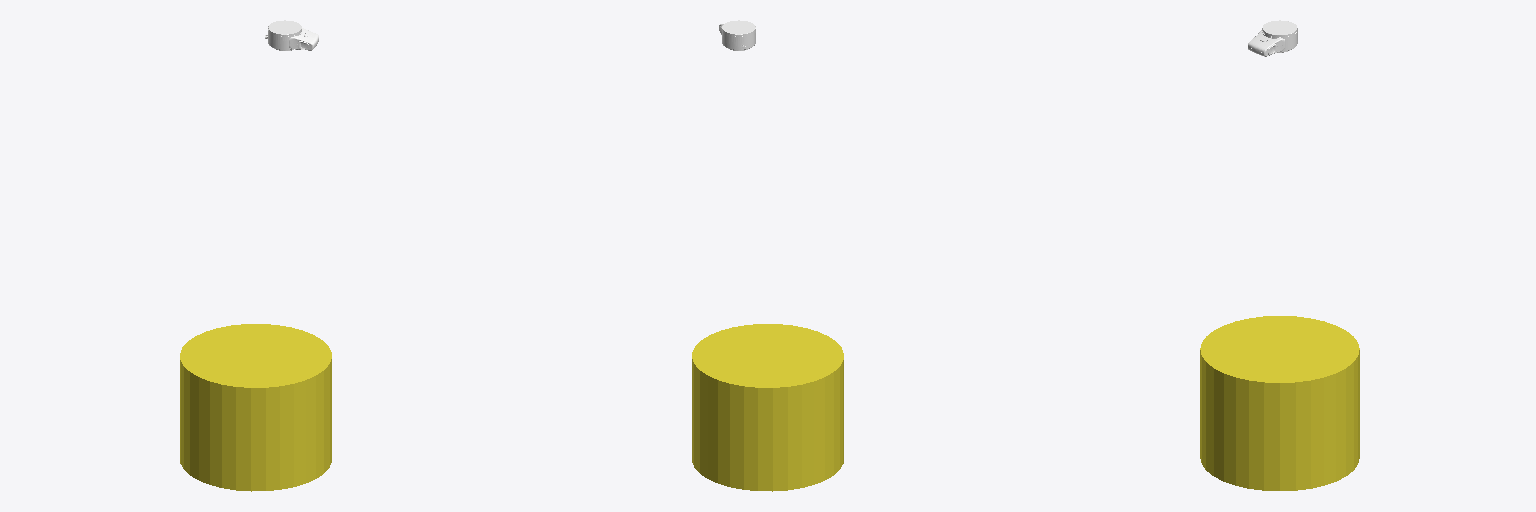
URDF robot description (omniPanda):
<?xml version="1.0"?>
<!-- =================================================================================== -->
<!-- |    This document was autogenerated by xacro from panda_arm.urdf.xacro           | -->
<!-- |    EDITING THIS FILE BY HAND IS NOT RECOMMENDED                                 | -->
<!-- =================================================================================== -->
<robot name="omniPanda">
  <link name="world"/>
  <link name="base_link_x">
    <inertial>
      <mass value="1.0"/>
      <origin rpy="0 0 0" xyz="0 0 0"/>
      <inertia ixx="1.0" ixy="0.0" ixz="0.0" iyy="1.0" iyz="0.0" izz="1.0"/>
    </inertial>
  </link>
  <link name="base_link_y">
    <inertial>
      <mass value="1.0"/>
      <origin rpy="0 0 0" xyz="0 0 0"/>
      <inertia ixx="1.0" ixy="0.0" ixz="0.0" iyy="1.0" iyz="0.0" izz="1.0"/>
    </inertial>
  </link>
  <link name="base_link">
    <inertial>
      <mass value="100.0"/>
      <origin rpy="0 0 0" xyz="0 0 0"/>
      <inertia ixx="1.0" ixy="0.0" ixz="0.0" iyy="1.0" iyz="0.0" izz="1.0"/>
    </inertial>
    <collision>
      <origin rpy="0.0 0 0" xyz="0 0 0"/>
      <geometry>
          <cylinder length="0.3" radius="0.2"/>
      </geometry>
    </collision>
    <visual>
      <origin rpy="0.0 0 0" xyz="0 0 0"/>
      <geometry>
          <cylinder length="0.3" radius="0.2"/>
      </geometry>
    </visual>
  </link>
  <joint name="omni_joint_x" type="prismatic">
    <safety_controller k_position="100.0" k_velocity="40.0" soft_lower_limit="-2.8973" soft_upper_limit="2.8973"/>
    <parent link="world"/>
    <child link="base_link_x"/>
    <origin rpy="0 0 0" xyz="0 0 0.15"/>
    <axis xyz="1 0 0"/>
    <limit effort="87" lower="-500" upper="500" velocity="2.1750"/>
  </joint>
  <joint name="omni_joint_y" type="prismatic">
    <safety_controller k_position="100.0" k_velocity="40.0" soft_lower_limit="-2.8973" soft_upper_limit="2.8973"/>
    <parent link="base_link_x"/>
    <child link="base_link_y"/>
    <origin rpy="0 0 0" xyz="0 0 0"/>
    <axis xyz="0 1 0"/>
    <limit effort="87" lower="-500" upper="500" velocity="2.1750"/>
  </joint>
  <joint name="omni_joint_theta" type="revolute">
    <safety_controller k_position="100.0" k_velocity="40.0" soft_lower_limit="-2.8973" soft_upper_limit="2.8973"/>
    <parent link="base_link_y"/>
    <child link="base_link"/>
    <origin rpy="0 0 0" xyz="0 0 0"/>
    <axis xyz="0 0 1"/>
    <limit effort="87" lower="-500" upper="500" velocity="2.1750"/>
  </joint>
  <link name="panda_link0">
    <inertial>
      <mass value="2.92"/>
      <origin rpy="0 0 0" xyz="-0.025566 -2.88e-05 0.057332"/>
      <inertia ixx="0.00782229414331" ixy="-1.56191622996e-05" ixz="-0.00126005738123" iyy="0.0109027971813" iyz="1.08233858202e-05" izz="0.0102355503949"/>
    </inertial>
    <visual>
      <origin rpy="0 0 0" xyz="0 0 0"/>
      <geometry>
        <mesh filename="meshes/visual/link0.dae"/>
      </geometry>
      <material name="">
        <color rgba="1 1 1 1"/>
      </material>
    </visual>
    <collision>
      <origin rpy="0 0 0" xyz="0 0 0"/>
      <geometry>
        <mesh filename="meshes/collision/link0.stl"/>
      </geometry>
    </collision>
  </link>
  <joint name="panda_joint_base" type="fixed">
    <parent link="base_link"/>
    <child link="panda_link0"/>
    <origin rpy="0 0 0" xyz="0 0 0.1"/>
  </joint>
  <link name="panda_link1">
    <inertial>
      <mass value="2.74"/>
      <origin rpy="0 0 0" xyz="0 -0.0324958 -0.0675818"/>
      <inertia ixx="0.0180416958283" ixy="0.0" ixz="0.0" iyy="0.0159136071891" iyz="0.0046758424612" izz="0.00620690827127"/>
    </inertial>
    <visual>
      <origin rpy="0 0 0" xyz="0 0 0"/>
      <geometry>
        <mesh filename="meshes/visual/link1.obj"/>
      </geometry>
      <material name="">
        <color rgba="1 1 1 1"/>
      </material>
    </visual>
    <collision>
      <origin rpy="0 0 0" xyz="0 0 0"/>
      <geometry>
        <mesh filename="meshes/collision/link1.stl"/>
      </geometry>
    </collision>
  </link>
  <joint name="panda_joint1" type="revolute">
    <safety_controller k_position="100.0" k_velocity="40.0" soft_lower_limit="-2.8973" soft_upper_limit="2.8973"/>
    <origin rpy="0 0 0" xyz="0 0 0.333"/>
    <parent link="panda_link0"/>
    <child link="panda_link1"/>
    <axis xyz="0 0 1"/>
    <limit effort="87" lower="-2.8973" upper="2.8973" velocity="2.1750"/>
  </joint>
  <link name="panda_link2">
    <inertial>
      <mass value="2.74"/>
      <origin rpy="0 0 0" xyz="0 -0.06861 0.0322285"/>
      <inertia ixx="0.0182856182281" ixy="0.0" ixz="0.0" iyy="0.00621358421175" iyz="-0.00472844221905" izz="0.0161514346309"/>
    </inertial>
    <visual>
      <origin rpy="0 0 0" xyz="0 0 0"/>
      <geometry>
        <mesh filename="meshes/visual/link2.obj"/>
      </geometry>
      <material name="">
        <color rgba="1 1 1 1"/>
      </material>
    </visual>
    <collision>
      <origin rpy="0 0 0" xyz="0 0 0"/>
      <geometry>
        <mesh filename="meshes/collision/link2.stl"/>
      </geometry>
    </collision>
  </link>
  <joint name="panda_joint2" type="revolute">
    <safety_controller k_position="100.0" k_velocity="40.0" soft_lower_limit="-1.7628" soft_upper_limit="1.7628"/>
    <origin rpy="-1.57079632679 0 0" xyz="0 0 0"/>
    <parent link="panda_link1"/>
    <child link="panda_link2"/>
    <axis xyz="0 0 1"/>
    <limit effort="87" lower="-1.7628" upper="1.7628" velocity="2.1750"/>
  </joint>
  <link name="panda_link3">
    <inertial>
      <mass value="2.38"/>
      <origin rpy="0 0 0" xyz="0.0469893 0.0316374 -0.031704"/>
      <inertia ixx="0.00771376630908" ixy="-0.00248490625138" ixz="-0.00332147581033" iyy="0.00989108008727" iyz="-0.00217796151484" izz="0.00811723558464"/>
    </inertial>
    <visual>
      <origin rpy="0 0 0" xyz="0 0 0"/>
      <geometry>
        <mesh filename="meshes/visual/link3.obj"/>
      </geometry>
      <material name="">
        <color rgba="1 1 1 1"/>
      </material>
    </visual>
    <collision>
      <origin rpy="0 0 0" xyz="0 0 0"/>
      <geometry>
        <mesh filename="meshes/collision/link3.stl"/>
      </geometry>
    </collision>
  </link>
  <joint name="panda_joint3" type="revolute">
    <safety_controller k_position="100.0" k_velocity="40.0" soft_lower_limit="-2.8973" soft_upper_limit="2.8973"/>
    <origin rpy="1.57079632679 0 0" xyz="0 -0.316 0"/>
    <parent link="panda_link2"/>
    <child link="panda_link3"/>
    <axis xyz="0 0 1"/>
    <limit effort="87" lower="-2.8973" upper="2.8973" velocity="2.1750"/>
  </joint>
  <link name="panda_link4">
    <inertial>
      <mass value="2.38"/>
      <origin rpy="0 0 0" xyz="-0.0360446 0.0336853 0.031882"/>
      <inertia ixx="0.00799663881132" ixy="0.00347095570217" ixz="-0.00241222942995" iyy="0.00825390705278" iyz="0.00235774044121" izz="0.0102515004345"/>
    </inertial>
    <visual>
      <origin rpy="0 0 0" xyz="0 0 0"/>
      <geometry>
        <mesh filename="meshes/visual/link4.obj"/>
      </geometry>
      <material name="">
        <color rgba="1 1 1 1"/>
      </material>
    </visual>
    <collision>
      <origin rpy="0 0 0" xyz="0 0 0"/>
      <geometry>
        <mesh filename="meshes/collision/link4.stl"/>
      </geometry>
    </collision>
  </link>
  <joint name="panda_joint4" type="revolute">
    <safety_controller k_position="100.0" k_velocity="40.0" soft_lower_limit="-3.0718" soft_upper_limit="0.0698"/>
    <!-- soft_upper_limitr should be -0.0698, but that brakes simulation when initial position for this joint is 0.0 -->
    <origin rpy="1.57079632679 0 0" xyz="0.0825 0 0"/>
    <parent link="panda_link3"/>
    <child link="panda_link4"/>
    <axis xyz="0 0 1"/>
    <limit effort="87" lower="-3.0718" upper="0.0698" velocity="2.1750"/>
    <!-- upper should be -0.0698, but that brakes simulation when initial position for this joint is 0.0 -->
  </joint>
  <link name="panda_link5">
    <inertial>
      <mass value="2.74"/>
      <origin rpy="0 0 0" xyz="0 0.0610427 -0.104176"/>
      <inertia ixx="0.030371374513" ixy="6.50283587108e-07" ixz="-1.05129179916e-05" iyy="0.0288752887402" iyz="-0.00775653445787" izz="0.00444134056164"/>
    </inertial>
    <visual>
      <origin rpy="0 0 0" xyz="0 0 0"/>
      <geometry>
        <mesh filename="meshes/visual/link5.obj"/>
      </geometry>
      <material name="">
        <color rgba="1 1 1 1"/>
      </material>
    </visual>
    <collision>
      <origin rpy="0 0 0" xyz="0 0 0"/>
      <geometry>
        <mesh filename="meshes/collision/link5.stl"/>
      </geometry>
    </collision>
  </link>
  <joint name="panda_joint5" type="revolute">
    <safety_controller k_position="100.0" k_velocity="40.0" soft_lower_limit="-2.8973" soft_upper_limit="2.8973"/>
    <origin rpy="-1.57079632679 0 0" xyz="-0.0825 0.384 0"/>
    <parent link="panda_link4"/>
    <child link="panda_link5"/>
    <axis xyz="0 0 1"/>
    <limit effort="12" lower="-2.8973" upper="2.8973" velocity="2.6100"/>
  </joint>
  <link name="panda_link6">
    <inertial>
      <mass value="1.55"/>
      <origin rpy="0 0 0" xyz="0.0510509 0.009108 0.0106343"/>
      <inertia ixx="0.00303336450376" ixy="-0.000437276865508" ixz="0.000629257294877" iyy="0.00404479911567" iyz="0.000130472021025" izz="0.00558234286039"/>
    </inertial>
    <visual>
      <origin rpy="0 0 0" xyz="0 0 0"/>
      <geometry>
        <mesh filename="meshes/visual/link6.obj"/>
      </geometry>
      <material name="">
        <color rgba="1 1 1 1"/>
      </material>
    </visual>
    <collision>
      <origin rpy="0 0 0" xyz="0 0 0"/>
      <geometry>
        <mesh filename="meshes/collision/link6.stl"/>
      </geometry>
    </collision>
  </link>
  <joint name="panda_joint6" type="revolute">
    <safety_controller k_position="100.0" k_velocity="40.0" soft_lower_limit="-0.0175" soft_upper_limit="3.7525"/>
    <origin rpy="1.57079632679 0 0" xyz="0 0 0"/>
    <parent link="panda_link5"/>
    <child link="panda_link6"/>
    <axis xyz="0 0 1"/>
    <limit effort="12" lower="-0.0175" upper="3.7525" velocity="2.6100"/>
  </joint>
  <link name="panda_link7">
    <inertial>
      <mass value="0.54"/>
      <origin rpy="0 0 0" xyz="0.0109695 0.0107965 0.0650411"/>
      <inertia ixx="0.000888868887021" ixy="-0.00012239074652" ixz="3.98699829666e-05" iyy="0.000888001373233" iyz="-9.33825115206e-05" izz="0.0007176834609"/>
    </inertial>
    <visual>
      <origin rpy="0 0 0" xyz="0 0 0"/>
      <geometry>
        <mesh filename="meshes/visual/link7.dae"/>
      </geometry>
      <material name="">
        <color rgba="1 1 1 1"/>
      </material>
    </visual>
    <collision>
      <origin rpy="0 0 0" xyz="0 0 0"/>
      <geometry>
        <mesh filename="meshes/collision/link7.stl"/>
      </geometry>
    </collision>
  </link>
  <joint name="panda_joint7" type="revolute">
    <safety_controller k_position="100.0" k_velocity="40.0" soft_lower_limit="-2.8973" soft_upper_limit="2.8973"/>
    <origin rpy="1.57079632679 0 0" xyz="0.088 0 0"/>
    <parent link="panda_link6"/>
    <child link="panda_link7"/>
    <axis xyz="0 0 1"/>
    <limit effort="12" lower="-2.8973" upper="2.8973" velocity="2.6100"/>
  </joint>
  <!-- critical as zero mass link -->
  <link name="panda_link8"/>
    <inertial>
      <mass value="0.01"/>
      <origin rpy="0 0 0" xyz="0.0 0.0 0.0"/>
      <inertia ixx="0.000888868887021" ixy="-0.00012239074652" ixz="3.98699829666e-05" iyy="0.000888001373233" iyz="-9.33825115206e-05" izz="0.0007176834609"/>
    </inertial>
  <joint name="panda_joint8" type="fixed">
    <origin rpy="0 0 0" xyz="0 0 0.107"/>
    <parent link="panda_link7"/>
    <child link="panda_link8"/>
    <axis xyz="0 0 0"/>
  </joint>
</robot>

--- Render facts (derived) ---
Views: 3 orthographic renders of the robot side by side, from view 1: azimuth 30°, elevation 25°; view 2: azimuth 150°, elevation 25°; view 3: azimuth 270°, elevation 25°.
Robot: omniPanda — 13 links, 12 joints (8 revolute, 2 prismatic, 2 fixed); root link world; default pose: all joints at 0.
Visible links, largest first — view 1: base_link, panda_link7; view 2: base_link, panda_link7; view 3: base_link, panda_link7.
Link boxes in pixels (x1,y1,x2,y2): base_link: (180,324,331,491); panda_link7: (265,20,318,50); base_link: (692,324,843,491); panda_link7: (719,20,755,50); base_link: (1200,316,1359,490); panda_link7: (1248,20,1297,56).
Bounding box of the posed robot: 0.4 × 0.4 × 1.23 m (x, y, z).
1 mesh visuals loaded from 8 distinct referenced files (1 Collada DAE); not drawn: 7 (reference not matched to a file when rendering).